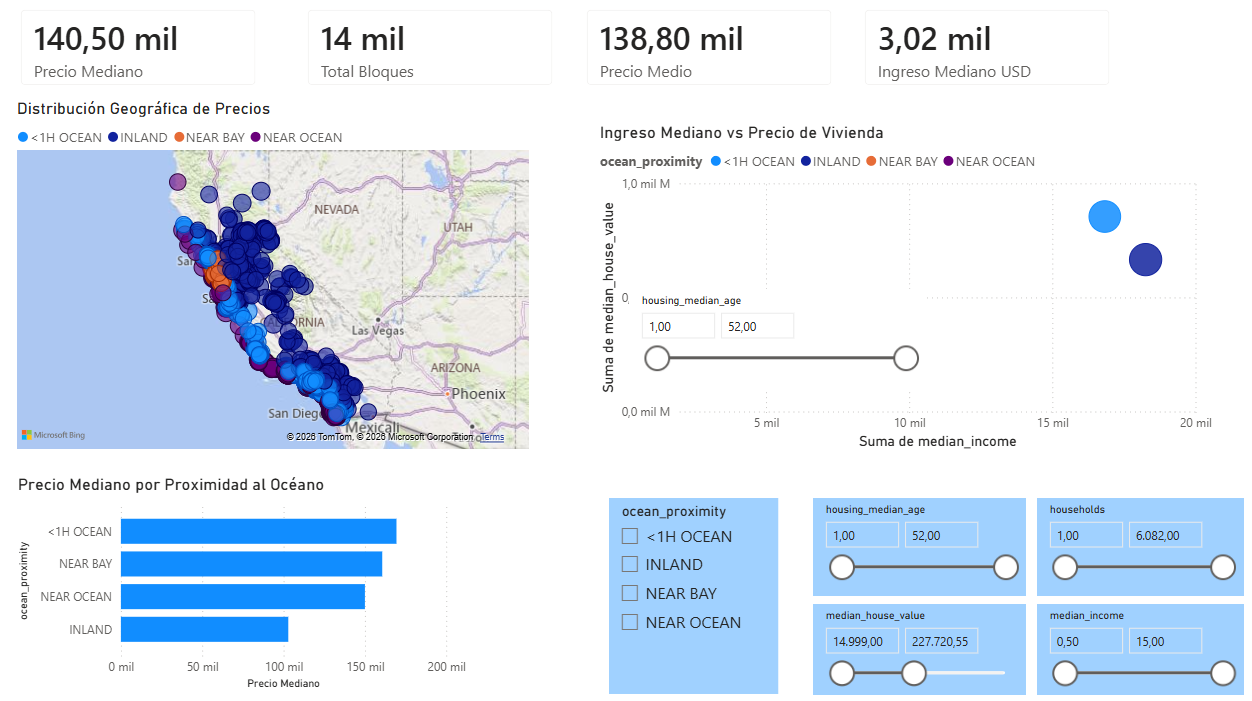

The page's visual inventory and layout, read from the dashboard file:
{"tool":"powerbi","page":{"name":"Página 1","canvas":[1280,720],"ordinal":0},"visuals":[{"type":"cardVisual","fields":{"Data":["housing.Precio Mediano"]},"box":[14,0,271.8,110.3],"z":0},{"type":"cardVisual","fields":{"Data":["housing.Precio Medio"]},"box":[585.6,0,281.2,110.3],"z":1000},{"type":"cardVisual","fields":{"Data":["housing.Total Bloques"]},"box":[304.5,0,281.2,110.3],"z":2000},{"type":"cardVisual","fields":{"Data":["housing.Ingreso Mediano USD"]},"box":[866.8,0,281.2,110.3],"z":3000},{"type":"clusteredBarChart","title":"Precio Mediano por Proximidad al Océano","fields":{"Category":["housing.ocean_proximity"],"Y":["housing.Precio Mediano"]},"box":[22.8,485.5,462.7,221.9],"z":4000},{"type":"scatterChart","title":"Ingreso Mediano vs Precio de Vivienda","fields":{"X":["Sum(housing.median_income)"],"Y":["Sum(housing.median_house_value)"],"Series":["housing.ocean_proximity"],"Size":["Sum(housing.population)"]},"box":[610.7,130.7,628.7,335.8],"z":5000},{"type":"slicer","fields":{"Values":["housing.ocean_proximity"]},"box":[625.4,510.2,170.7,198],"z":6000},{"type":"slicer","fields":{"Values":["housing.median_house_value"]},"box":[831.4,617.3,215.2,90.9],"z":7000},{"type":"map","title":"Distribución Geográfica de Precios","fields":{"Y":["housing.latitude"],"X":["housing.longitude"],"Series":["housing.ocean_proximity"],"Size":["Avg(housing.median_house_value)"]},"box":[22.4,106.6,527.5,360],"z":8000},{"type":"slicer","fields":{"Values":["housing.median_income"]},"box":[1057.7,617.3,209.1,90.9],"z":9000},{"type":"slicer","fields":{"Values":["housing.housing_median_age"]},"box":[645.6,299,301.1,102],"z":10000},{"type":"slicer","fields":{"Values":["housing.households"]},"box":[1057.7,510.2,209.1,98],"z":11000},{"type":"slicer","fields":{"Values":["housing.housing_median_age"]},"box":[831.4,510.2,215.2,98],"z":12000}]}

Visuals, with their boxes in screenshot pixels (x1, y1, x2, y2), scaled from the page's 1280x720 canvas onto the 1252x701 screenshot:
cardVisual - housing.Precio Mediano: 14:0:280:107
cardVisual - housing.Precio Medio: 573:0:848:107
cardVisual - housing.Total Bloques: 298:0:573:107
cardVisual - housing.Ingreso Mediano USD: 848:0:1123:107
"Precio Mediano por Proximidad al Océano" clusteredBarChart: 22:473:475:689
"Ingreso Mediano vs Precio de Vivienda" scatterChart: 597:127:1212:454
slicer - housing.ocean_proximity: 612:497:779:690
slicer - housing.median_house_value: 813:601:1024:690
"Distribución Geográfica de Precios" map: 22:104:538:454
slicer - housing.median_income: 1035:601:1239:690
slicer - housing.housing_median_age: 631:291:926:390
slicer - housing.households: 1035:497:1239:592
slicer - housing.housing_median_age: 813:497:1024:592
